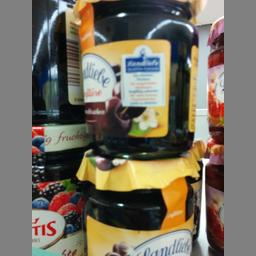jam: (73, 0, 200, 159), (79, 150, 199, 255)
